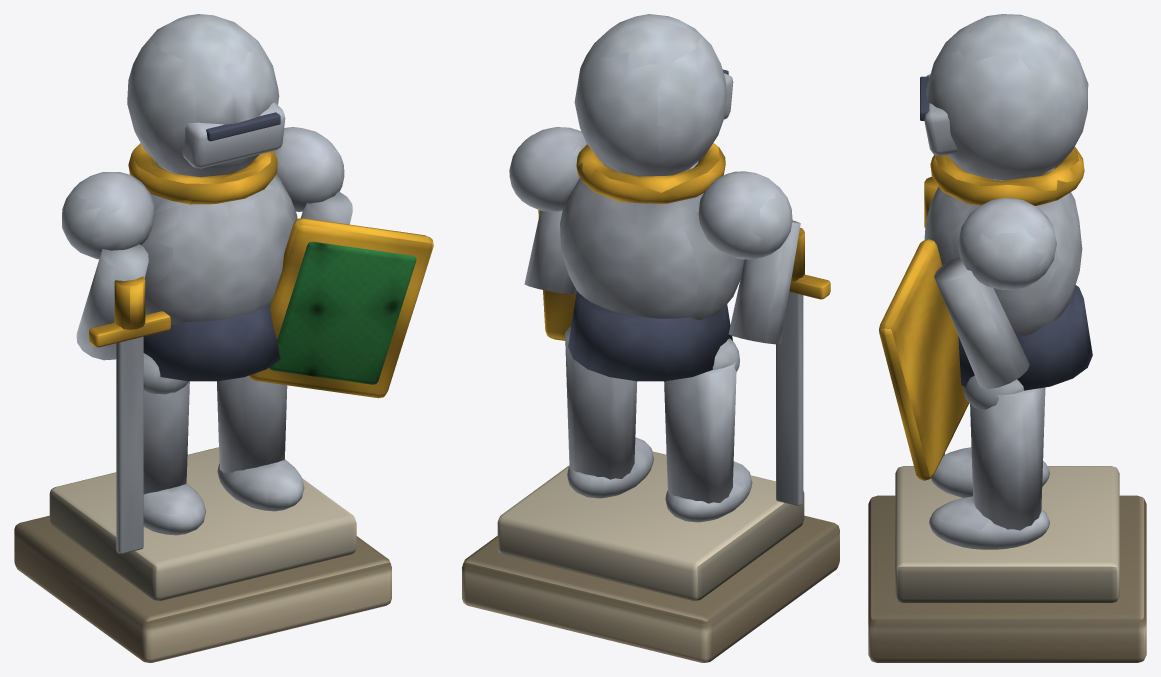
The model's file is g_prop_knight.glb.
3 renders of one model, left to right at view 1: azimuth 30°, elevation 25°; view 2: azimuth 150°, elevation 25°; view 3: azimuth 270°, elevation 25°, orthographic. The views are drawn at different scales.
Visible parts, largest first — view 1: KntPlinth1, KntPlinth2, KntCuirass, KntHelm, KntShieldFace, KntShieldRim, KntWaist, KntPauldron_-0.25, KntGreave_0.13, KntSwordBlade, KntNeckGorget, KntGreave_-0.13 (+10 smaller); view 2: KntPlinth1, KntPlinth2, KntHelm, KntCuirass, KntWaist, KntGreave_-0.13, KntGreave_0.13, KntPauldron_-0.25, KntSwordBlade, KntVambrace_-0.25, KntPauldron_0.25, KntNeckGorget (+6 smaller); view 3: KntPlinth1, KntPlinth2, KntHelm, KntShieldRim, KntGreave_0.13, KntCuirass, KntPauldron_0.25, KntVambrace_0.25, KntWaist, KntNeckGorget, KntSabaton_0.13, KntSabaton_-0.13 (+2 smaller).
Part boxes in pixels (bbox=[...]): KntPlinth1: bbox=[14, 515, 391, 662]; KntPlinth2: bbox=[49, 447, 356, 600]; KntCuirass: bbox=[141, 161, 297, 324]; KntHelm: bbox=[127, 14, 279, 177]; KntShieldFace: bbox=[269, 241, 416, 384]; KntShieldRim: bbox=[248, 218, 433, 398]; KntWaist: bbox=[143, 303, 280, 381]; KntPauldron_-0.25: bbox=[62, 172, 154, 259]; KntGreave_0.13: bbox=[217, 376, 287, 472]; KntSwordBlade: bbox=[116, 336, 143, 553]; KntNeckGorget: bbox=[128, 143, 277, 204]; KntGreave_-0.13: bbox=[143, 381, 189, 494]; KntPlinth1: bbox=[462, 515, 839, 662]; KntPlinth2: bbox=[497, 451, 804, 600]; KntHelm: bbox=[574, 14, 726, 176]; KntCuirass: bbox=[560, 161, 744, 319]; KntWaist: bbox=[568, 291, 732, 381]; KntGreave_-0.13: bbox=[664, 362, 736, 503]; KntGreave_0.13: bbox=[565, 326, 637, 479]; KntPauldron_-0.25: bbox=[698, 171, 792, 259]; KntSwordBlade: bbox=[776, 292, 803, 505]; KntVambrace_-0.25: bbox=[728, 220, 800, 344]; KntPauldron_0.25: bbox=[509, 127, 586, 211]; KntNeckGorget: bbox=[576, 143, 725, 204]; KntPlinth1: bbox=[868, 495, 1146, 662]; KntPlinth2: bbox=[895, 466, 1119, 602]; KntHelm: bbox=[926, 14, 1088, 180]; KntShieldRim: bbox=[879, 239, 969, 480]; KntGreave_0.13: bbox=[970, 387, 1045, 530]; KntCuirass: bbox=[924, 167, 1082, 336]; KntPauldron_0.25: bbox=[958, 197, 1056, 290]; KntVambrace_0.25: bbox=[934, 257, 1029, 388]; KntWaist: bbox=[958, 285, 1092, 390]; KntNeckGorget: bbox=[930, 147, 1084, 205]; KntSabaton_0.13: bbox=[929, 496, 1049, 549]; KntSabaton_-0.13: bbox=[931, 447, 1049, 497].
Bounding box in the file's own units: 0.8336 × 1.43 × 0.62.
6 materials, 6 textured.
